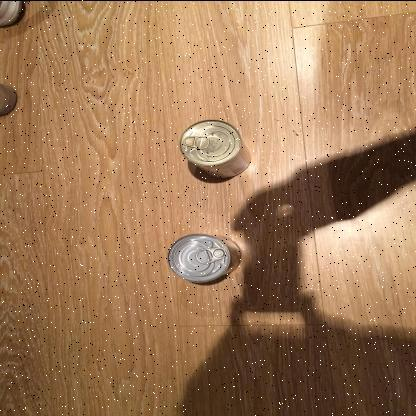metal: (180, 118, 254, 180), (167, 231, 244, 283)
